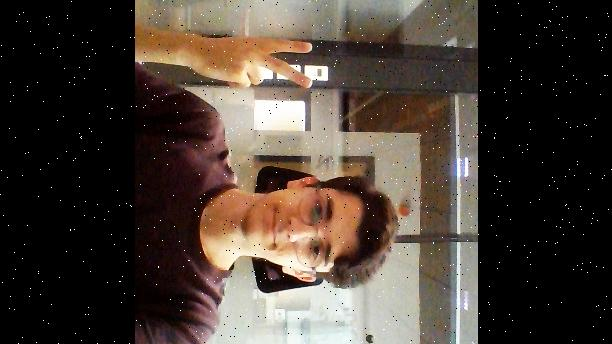Scissors: (188, 34, 314, 93)
